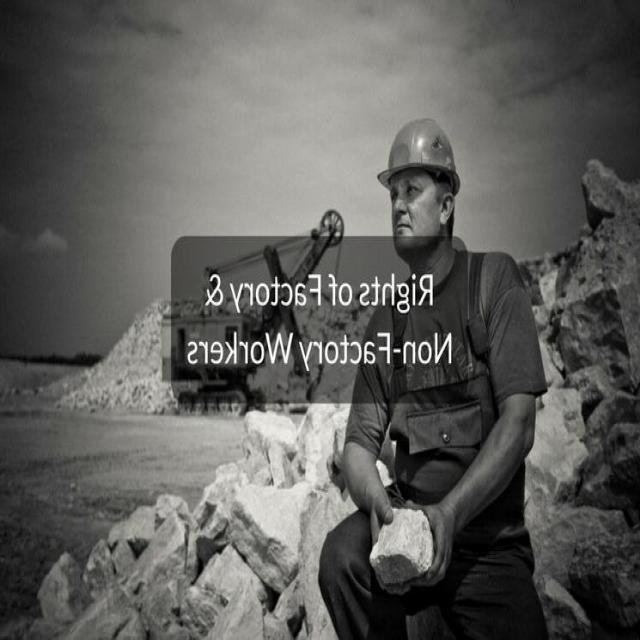safety_helmet: (376, 110, 464, 192)
